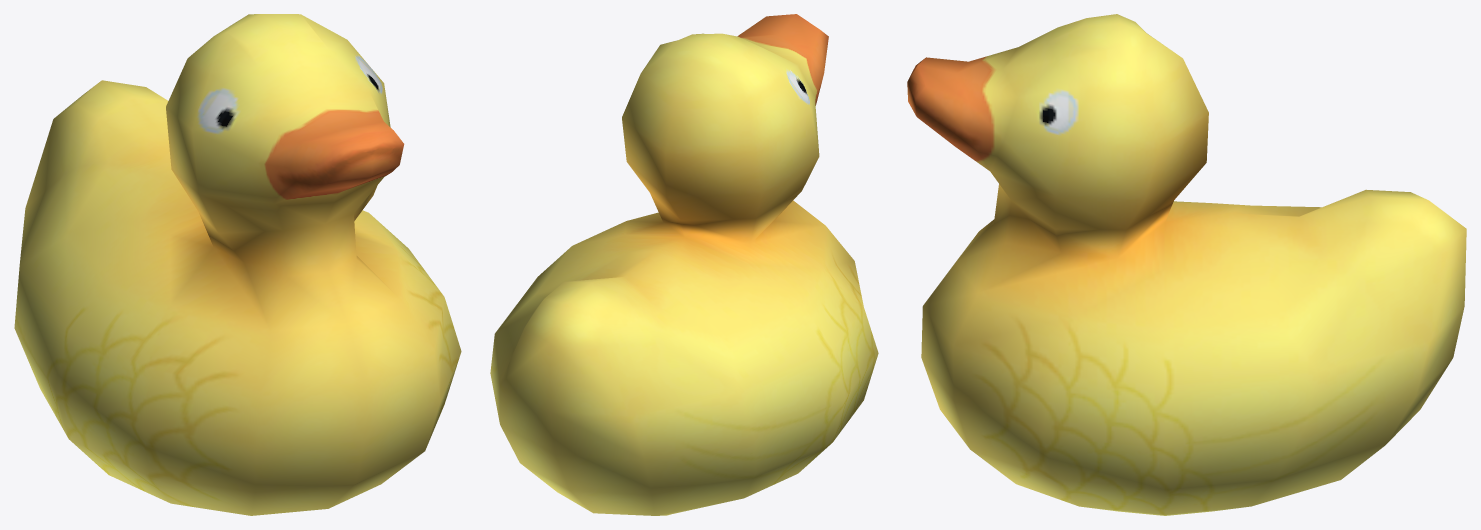
The model's file is Rubber_Duck.fbx.
3 renders of one model, left to right at view 1: azimuth 30°, elevation 25°; view 2: azimuth 150°, elevation 25°; view 3: azimuth 270°, elevation 25°, orthographic. The views are drawn at different scales.
Visible parts, largest first — view 1: Rubber_Duck; view 2: Rubber_Duck; view 3: Rubber_Duck.
Boxes of the visible parts, x1,y1,x2,y2 form: Rubber_Duck: (14,14,461,515); Rubber_Duck: (490,14,878,515); Rubber_Duck: (907,14,1466,515).
Bounding box in the file's own units: 0.2644 × 0.3272 × 0.3614.
